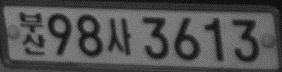1: (205, 17, 229, 61)
3: (232, 18, 259, 61), (142, 16, 168, 59)
6: (173, 18, 200, 60)
8: (76, 14, 103, 57)
9: (47, 12, 72, 55)
부산_V: (19, 10, 46, 55)
사: (107, 17, 131, 55)
